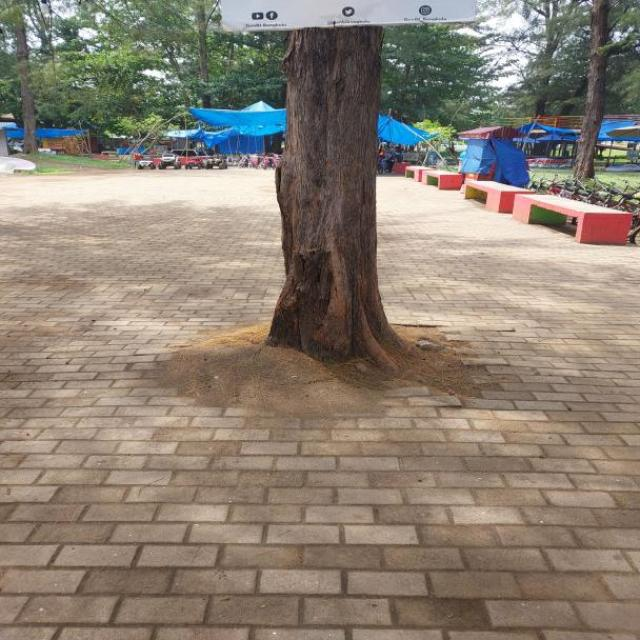tree ahead at: (269, 0, 408, 373)
